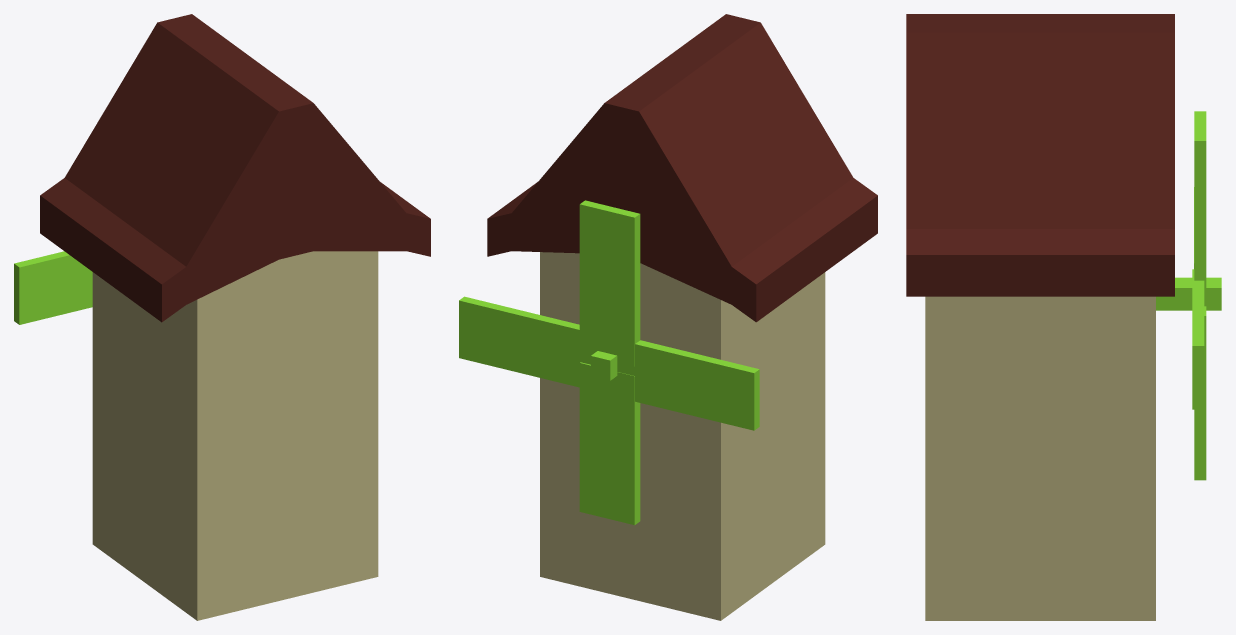
File: Farm.fbx
The picture shows the model from 3 angles, left to right: view 1: azimuth 30°, elevation 25°; view 2: azimuth 150°, elevation 25°; view 3: azimuth 270°, elevation 25°; orthographic projection. The views are drawn at different scales.
Parts seen in each view (by area): view 1: BaseCube, Roof, Cube.004; view 2: BaseCube, Roof, Cube.004; view 3: Roof, BaseCube, Cube.004.
Boxes of the visible parts, bbox=[...] form: BaseCube: bbox=[92, 251, 378, 620]; Roof: bbox=[40, 14, 430, 322]; Cube.004: bbox=[14, 251, 92, 324]; BaseCube: bbox=[540, 252, 825, 620]; Roof: bbox=[487, 14, 877, 322]; Cube.004: bbox=[459, 200, 759, 525]; Roof: bbox=[906, 14, 1174, 296]; BaseCube: bbox=[925, 296, 1155, 620]; Cube.004: bbox=[1156, 111, 1221, 480].
Bounding box in the file's own units: 327 × 526 × 273.
